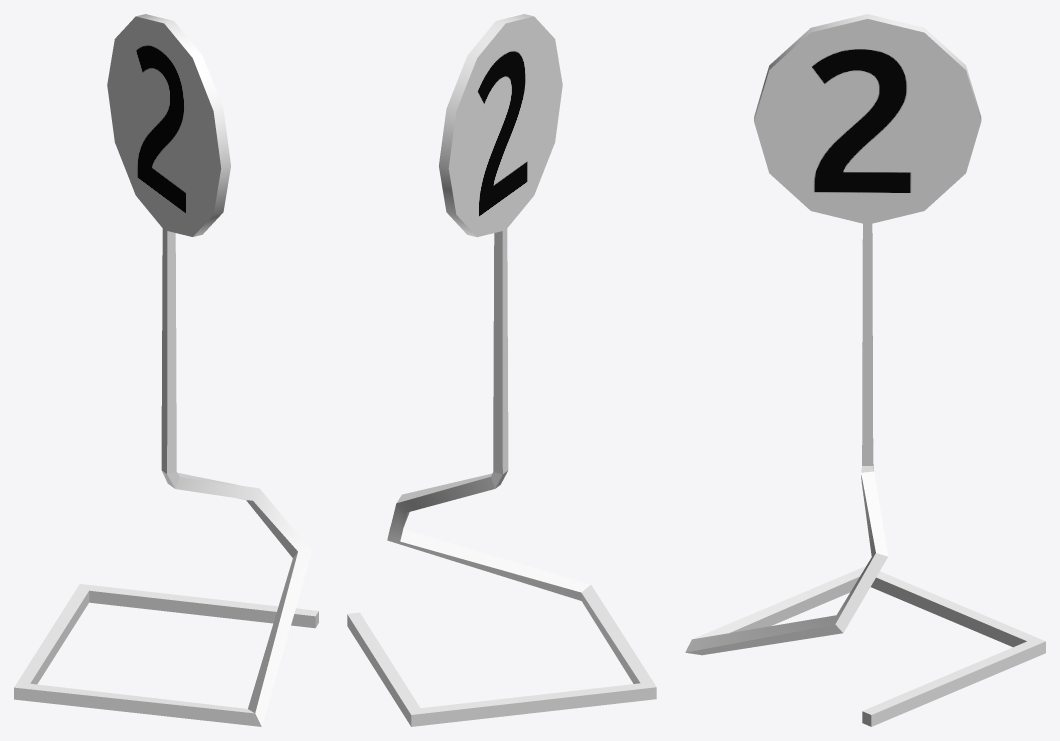
The model's file is Marker_2.FBX.
3 views of the same model, side by side, from view 1: azimuth 30°, elevation 25°; view 2: azimuth 150°, elevation 25°; view 3: azimuth 270°, elevation 25° (orthographic).
Visible parts, largest first — view 1: Marker_2; view 2: Marker_2; view 3: Marker_2.
Part boxes in pixels (x1,y1,x2,y2): Marker_2: [14, 14, 318, 726]; Marker_2: [347, 14, 656, 726]; Marker_2: [685, 14, 1045, 726].
Size of the model in its own units: 4.03 by 8.02 by 4.11.
